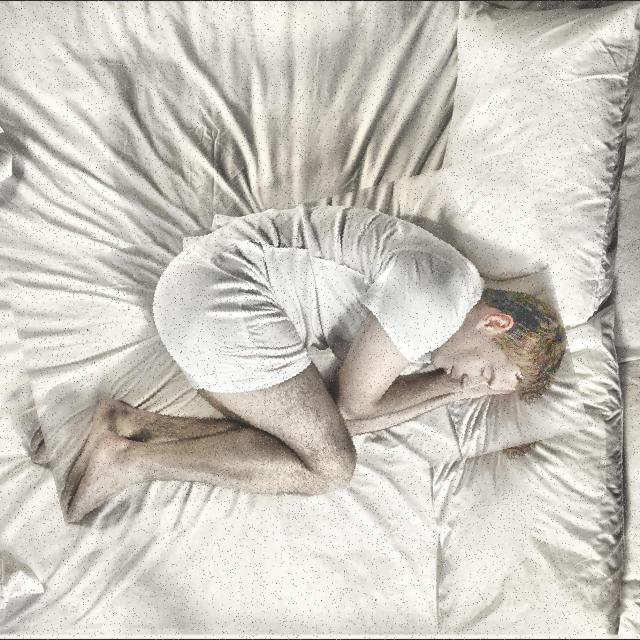Not_Supine: (61, 205, 567, 523)
